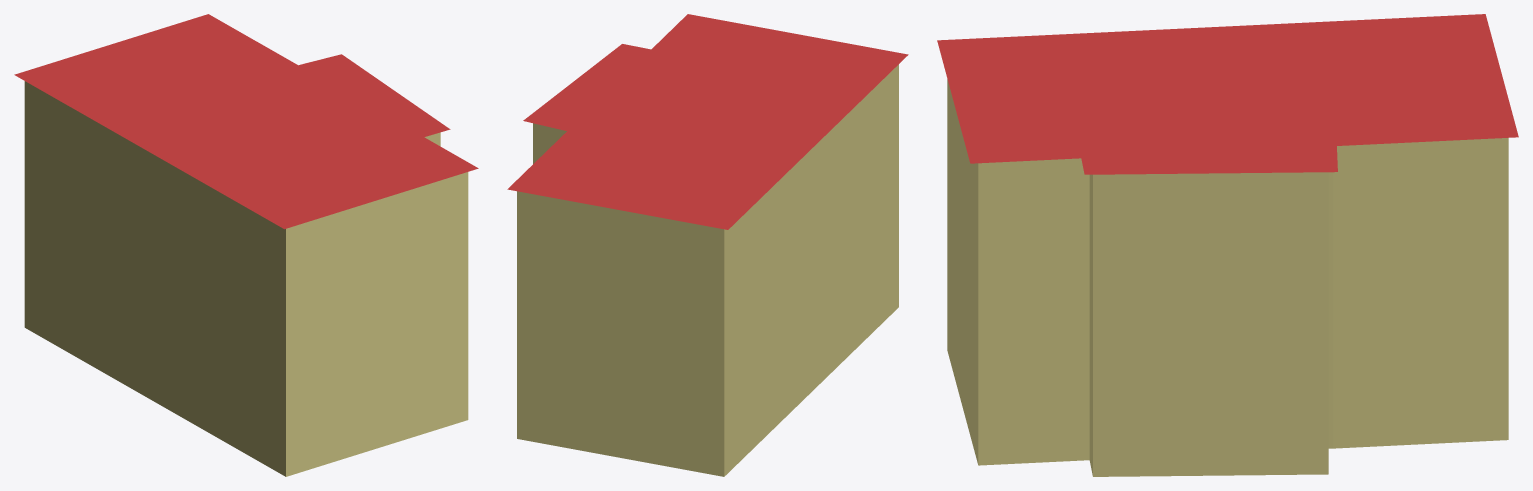
3 views of the same model, side by side, from view 1: azimuth 30°, elevation 25°; view 2: azimuth 150°, elevation 25°; view 3: azimuth 270°, elevation 25° (orthographic). The views are drawn at different scales.
Size of the model in its own units: 10.44 by 15.97 by 9.27.
